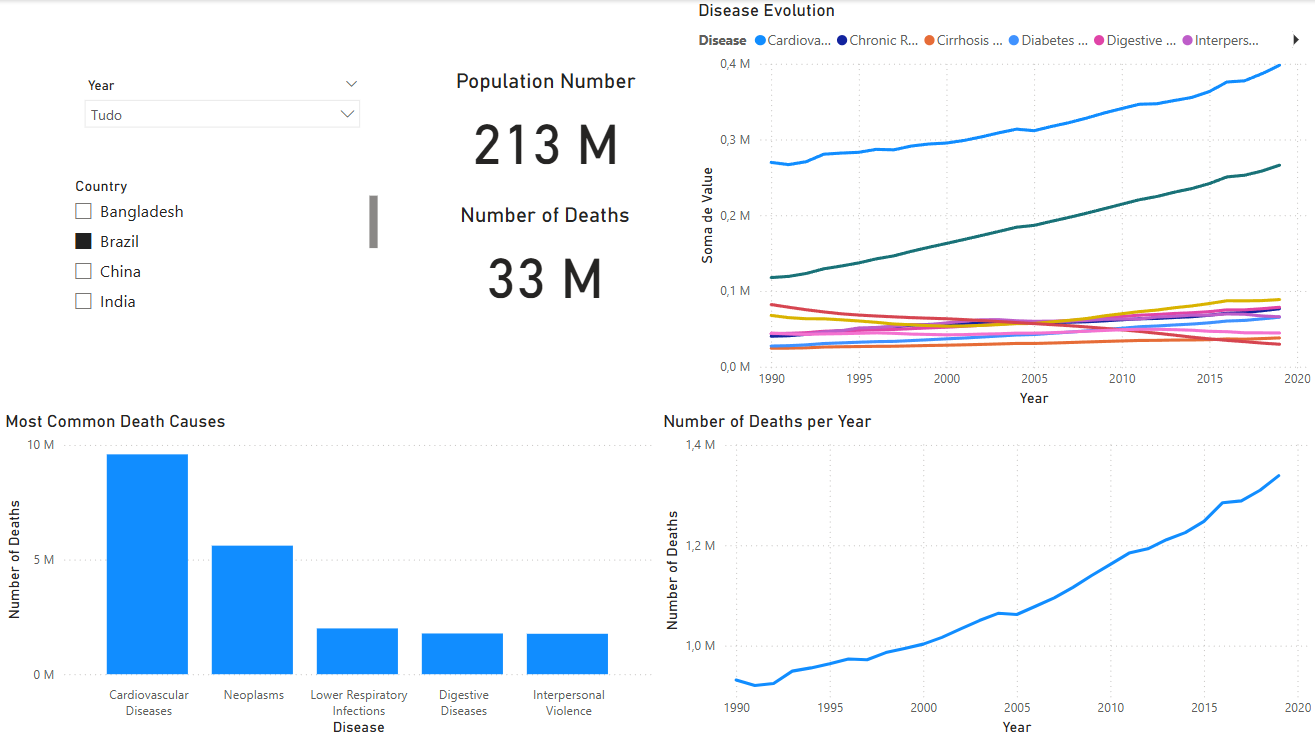

This screenshot's page, from the dashboard's own definition file:
{"tool":"powerbi","page":{"name":"Página 1","canvas":[1280,720],"ordinal":0},"visuals":[{"type":"lineChart","title":"Number of Deaths per Year","fields":{"Category":["cause_of_deaths.Year"],"Y":["Sum(cause_of_deaths.Value)"]},"box":[640,400,640,320],"z":0},{"type":"slicer","fields":{"Values":["cause_of_deaths.Year"]},"box":[60.3,66.1,312.2,74.9],"z":1000},{"type":"card","title":"Population Number","fields":{"Values":["Sum(countries.population)"]},"box":[435,65.9,192.1,111.1],"z":2000},{"type":"clusteredColumnChart","title":"Most Common Death Causes","fields":{"Category":["cause_of_deaths.Disease"],"Y":["Sum(cause_of_deaths.Value)"]},"box":[0,400,640,320],"z":3000},{"type":"card","title":"Number of Deaths","fields":{"Values":["Sum(cause_of_deaths.Value)"]},"box":[435,196.2,190.7,111.1],"z":4000},{"type":"lineChart","title":"Disease Evolution","fields":{"Y":["Sum(cause_of_deaths.Value)"],"Series":["cause_of_deaths.Disease"],"Category":["cause_of_deaths.Year"]},"box":[674.4,0,605.6,400],"z":5000},{"type":"slicer","fields":{"Values":["countries.name.common"]},"box":[60.3,167.3,312.2,149.8],"z":6000}]}

Visuals, with their boxes in screenshot pixels (x1, y1, x2, y2), scaled from the page's 1280x720 canvas onto the 1315x740 screenshot:
"Number of Deaths per Year" lineChart: region(658, 411, 1314, 739)
slicer - cause_of_deaths.Year: region(62, 68, 383, 145)
"Population Number" card: region(447, 68, 644, 182)
"Most Common Death Causes" clusteredColumnChart: region(0, 411, 658, 739)
"Number of Deaths" card: region(447, 202, 643, 316)
"Disease Evolution" lineChart: region(693, 0, 1314, 411)
slicer - countries.name.common: region(62, 172, 383, 326)
